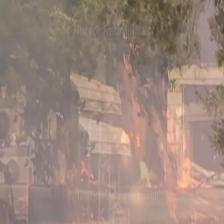fire: (106, 44, 218, 224), (13, 153, 119, 224)
